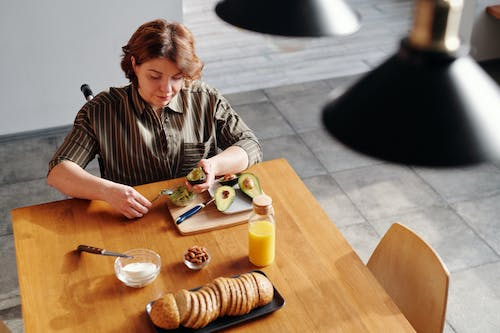knife: (174, 195, 215, 226), (76, 244, 134, 259)
